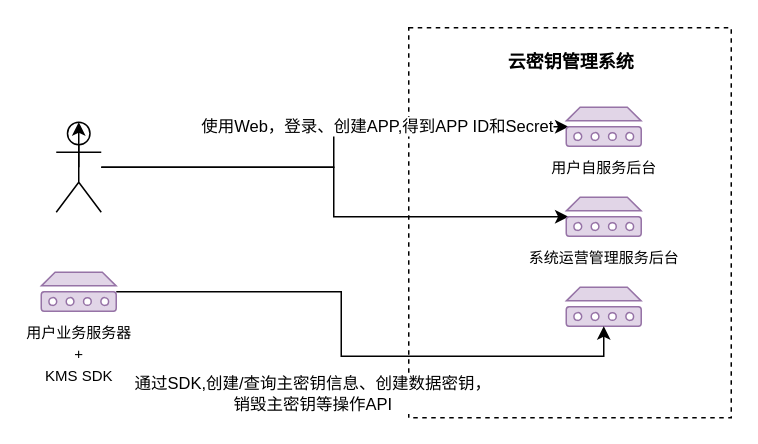
Some shapes in this 758 by 444 pixel diagram are drawn without their labels. Each missing label, with the centre of its shape:
KLMS服务: point (603, 306)
组织管理员: point (78, 166)
